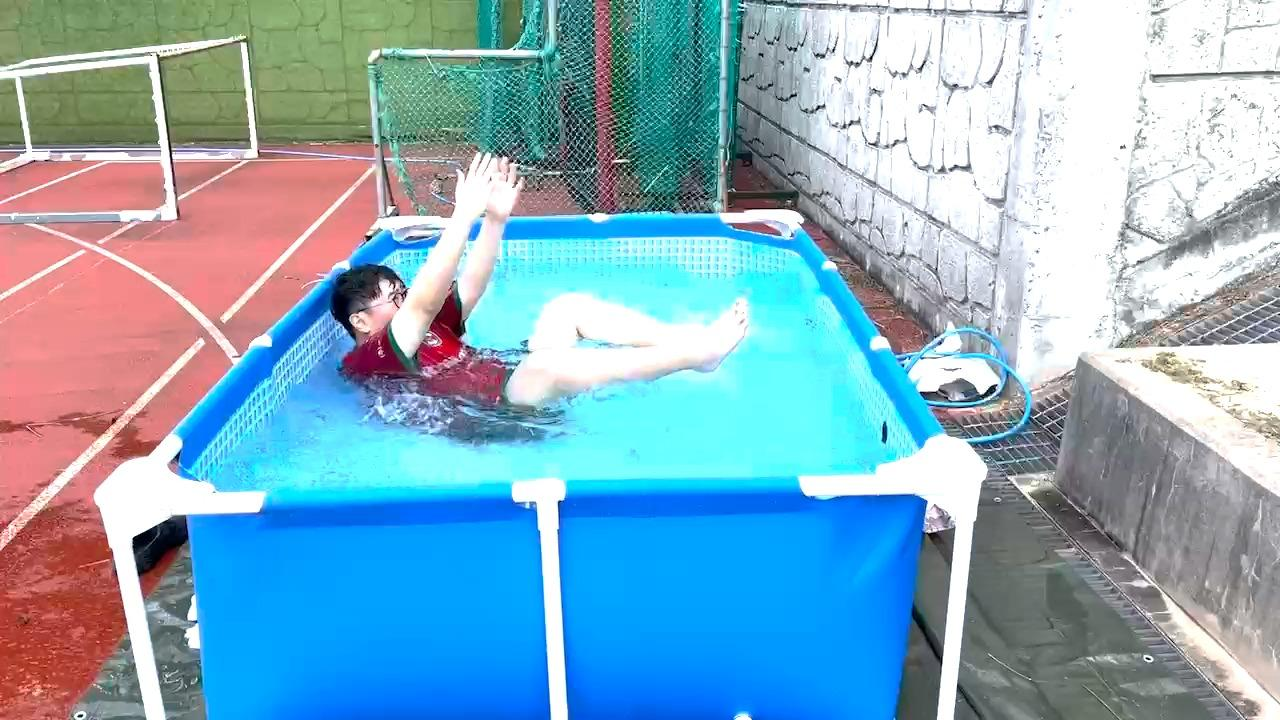Drowning: (346, 167, 545, 445)
